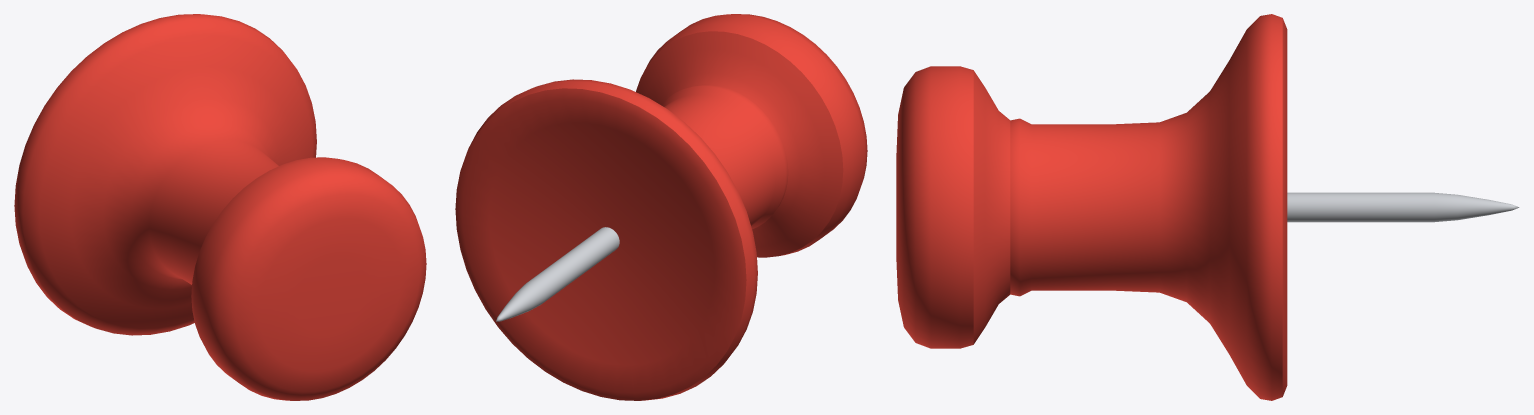
The model's file is Pin.fbx.
3 renders of one model, left to right at view 1: azimuth 30°, elevation 25°; view 2: azimuth 150°, elevation 25°; view 3: azimuth 270°, elevation 25°, orthographic. The views are drawn at different scales.
Visible parts, largest first — view 1: Pin; view 2: Pin; view 3: Pin.
Part boxes in pixels (bbox=[...]): Pin: bbox=[14, 14, 426, 400]; Pin: bbox=[455, 14, 867, 400]; Pin: bbox=[896, 14, 1519, 400].
Size of the model in its own units: 0.008 by 0.008 by 0.0129.
